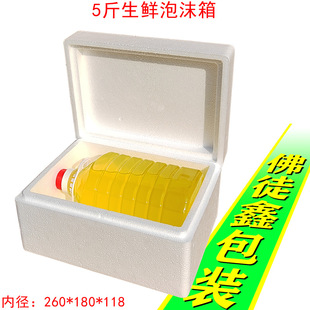泡沫箱: (16, 32, 233, 297)
